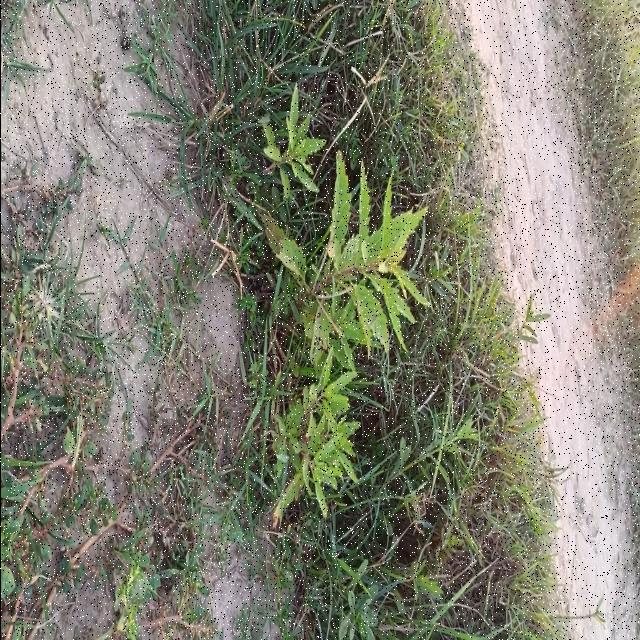weed: (257, 150, 427, 525), (262, 86, 323, 197)
